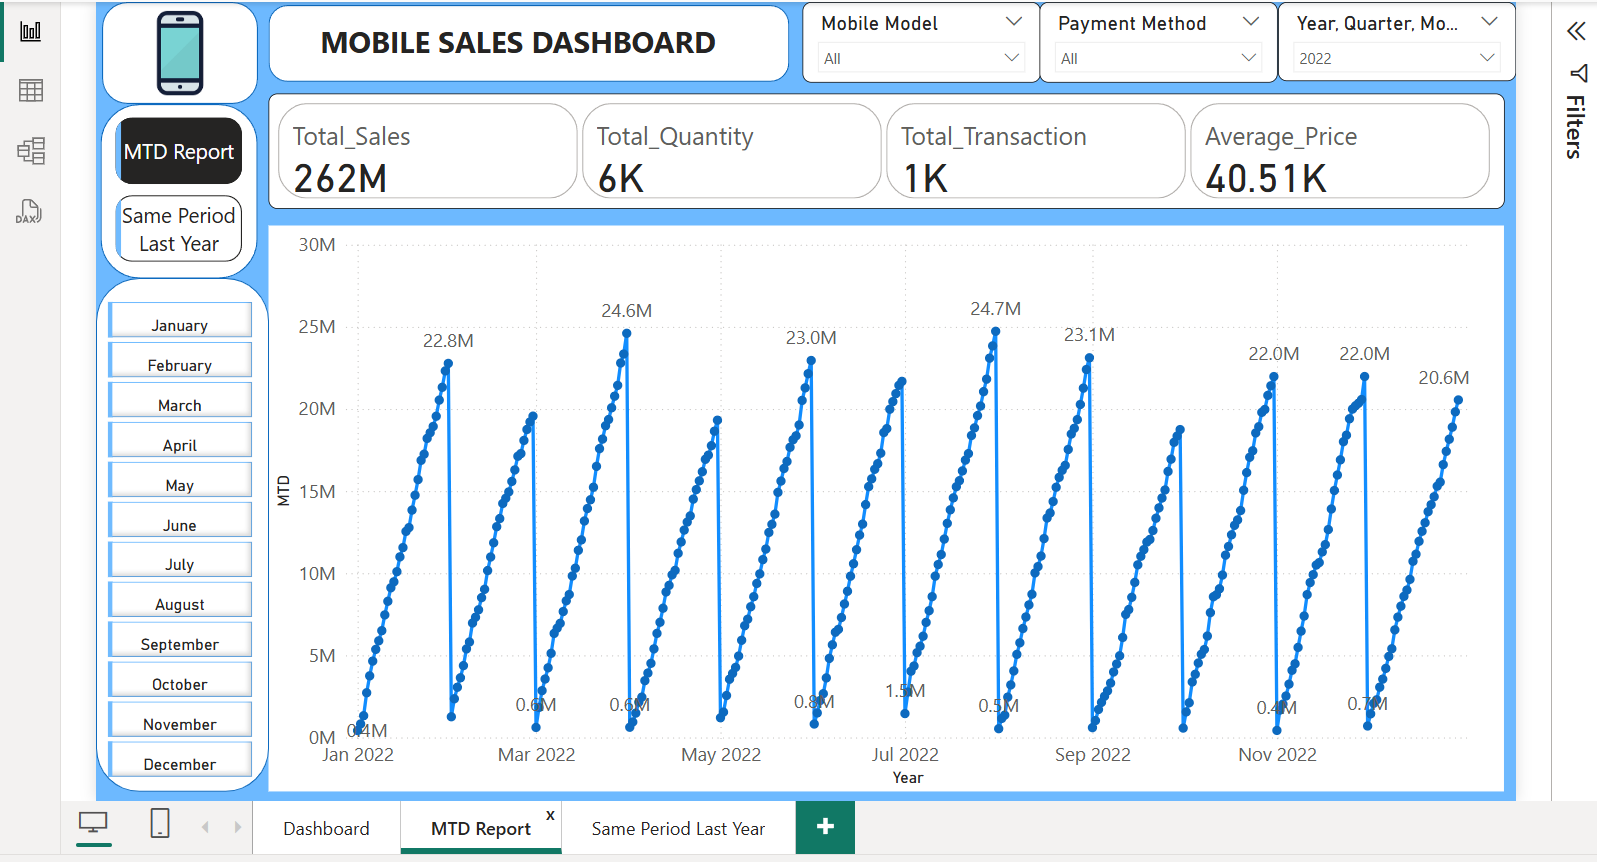

The page's visual inventory and layout, read from the dashboard file:
{"tool":"powerbi","page":{"name":"MTD Report","canvas":[1280,720],"ordinal":1},"visuals":[{"type":"shape","box":[5.4,0,140.6,91.9],"z":0},{"type":"shape","box":[4.7,91.4,141.8,157.5],"z":1000},{"type":"cardVisual","fields":{"Data":["Mobile_Sales.Total_Sales","Mobile_Sales.Total_Quantity","Mobile_Sales.Total_Transaction","Mobile_Sales.Average_Price"]},"box":[155.4,82.5,1113.8,104.1],"z":2000},{"type":"slicer","fields":{"Values":["Mobile_Sales.Mobile Model"]},"box":[636.2,0,214.5,72.5],"z":3000},{"type":"slicer","fields":{"Values":["Mobile_Sales.Payment Method"]},"box":[850.7,0,214.5,72.5],"z":4000},{"type":"slicer","fields":{"Values":["Custom_Calendar.Date.Variation.Date Hierarchy.Year","Custom_Calendar.Date.Variation.Date Hierarchy.Quarter","Custom_Calendar.Date.Variation.Date Hierarchy.Month","Custom_Calendar.Date.Variation.Date Hierarchy.Day"]},"box":[1065.2,0,214.5,71],"z":5000},{"type":"image","box":[32.4,2.7,86.5,86.5],"z":6000},{"type":"lineChart","fields":{"Category":["Custom_Calendar.Date.Variation.Date Hierarchy.Year","Custom_Calendar.Date.Variation.Date Hierarchy.Quarter","Custom_Calendar.Date.Variation.Date Hierarchy.Month","Custom_Calendar.Date.Variation.Date Hierarchy.Day"],"Y":["Mobile_Sales.MTD"]},"box":[155.9,201.6,1113.6,510.3],"z":7000},{"type":"shape","box":[0,248.9,155.9,463.1],"z":8000},{"type":"advancedSlicerVisual","fields":{"Values":["Custom_Calendar.Date.Variation.Date Hierarchy.Month"]},"box":[5.4,264.9,140.6,447.4],"z":9000},{"type":"pageNavigator","box":[17.3,104,115,130.7],"z":10000},{"type":"shape","box":[155.9,3.2,469.4,69.3],"z":11000},{"type":"textbox","box":[187.4,12.6,384.3,58.3],"z":12000}]}

Visuals, with their boxes on the page's 1280x720 design canvas (x1, y1, x2, y2). These are canvas units, not pixel positions in the 1597x862 screenshot, which may show the page scaled, cropped or inside an application window:
shape: BBox(5, 0, 146, 92)
shape: BBox(5, 91, 146, 249)
cardVisual - Mobile_Sales.Total_Sales x Mobile_Sales.Total_Quantity: BBox(155, 82, 1269, 187)
slicer - Mobile_Sales.Mobile Model: BBox(636, 0, 851, 72)
slicer - Mobile_Sales.Payment Method: BBox(851, 0, 1065, 72)
slicer - Custom_Calendar.Date.Variation.Date Hierarchy.Year x Custom_Calendar.Date.Variation.Date Hierarchy.Quarter: BBox(1065, 0, 1280, 71)
image: BBox(32, 3, 119, 89)
lineChart - Custom_Calendar.Date.Variation.Date Hierarchy.Year x Custom_Calendar.Date.Variation.Date Hierarchy.Quarter: BBox(156, 202, 1270, 712)
shape: BBox(0, 249, 156, 712)
advancedSlicerVisual - Custom_Calendar.Date.Variation.Date Hierarchy.Month: BBox(5, 265, 146, 712)
pageNavigator: BBox(17, 104, 132, 235)
shape: BBox(156, 3, 625, 72)
textbox: BBox(187, 13, 572, 71)
